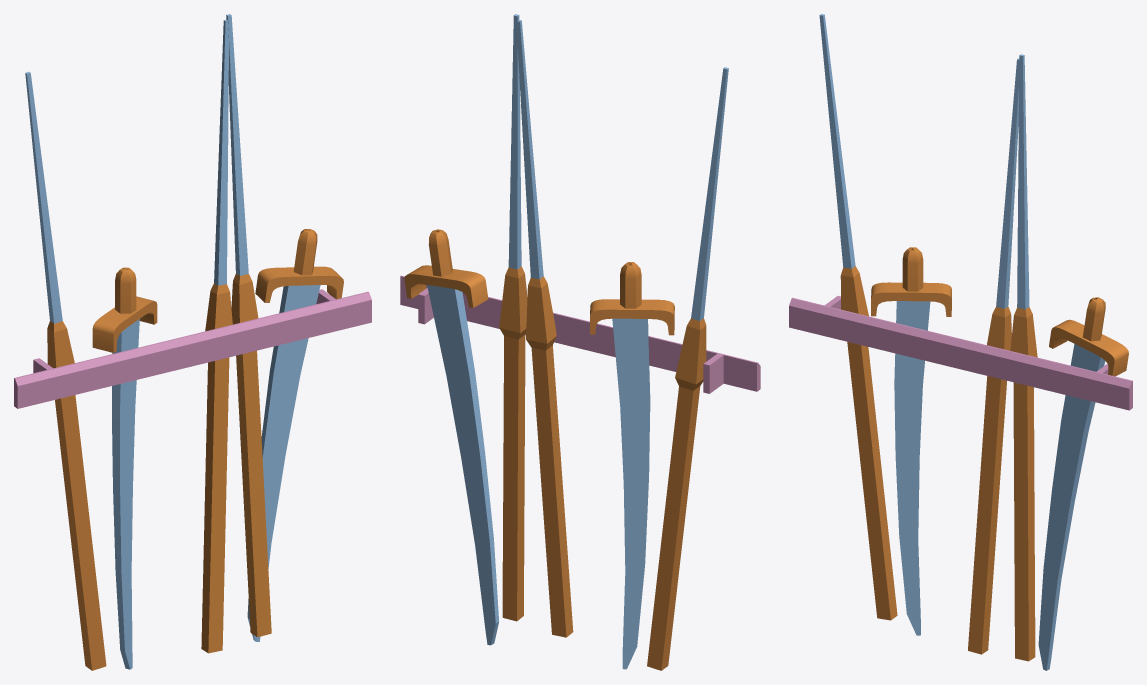
Rendered from Waffen.FBX.
3 renders of one model, left to right at view 1: azimuth 30°, elevation 25°; view 2: azimuth 150°, elevation 25°; view 3: azimuth 330°, elevation 25°, orthographic. The views are drawn at different scales.
Visible parts, largest first — view 1: Waffen; view 2: Waffen; view 3: Waffen.
Part boxes in pixels (x1,y1,x2,y2): Waffen: (14, 14, 371, 670); Waffen: (400, 14, 760, 670); Waffen: (789, 14, 1132, 670).
Size of the model in its own units: 101 by 172 by 15.33.
